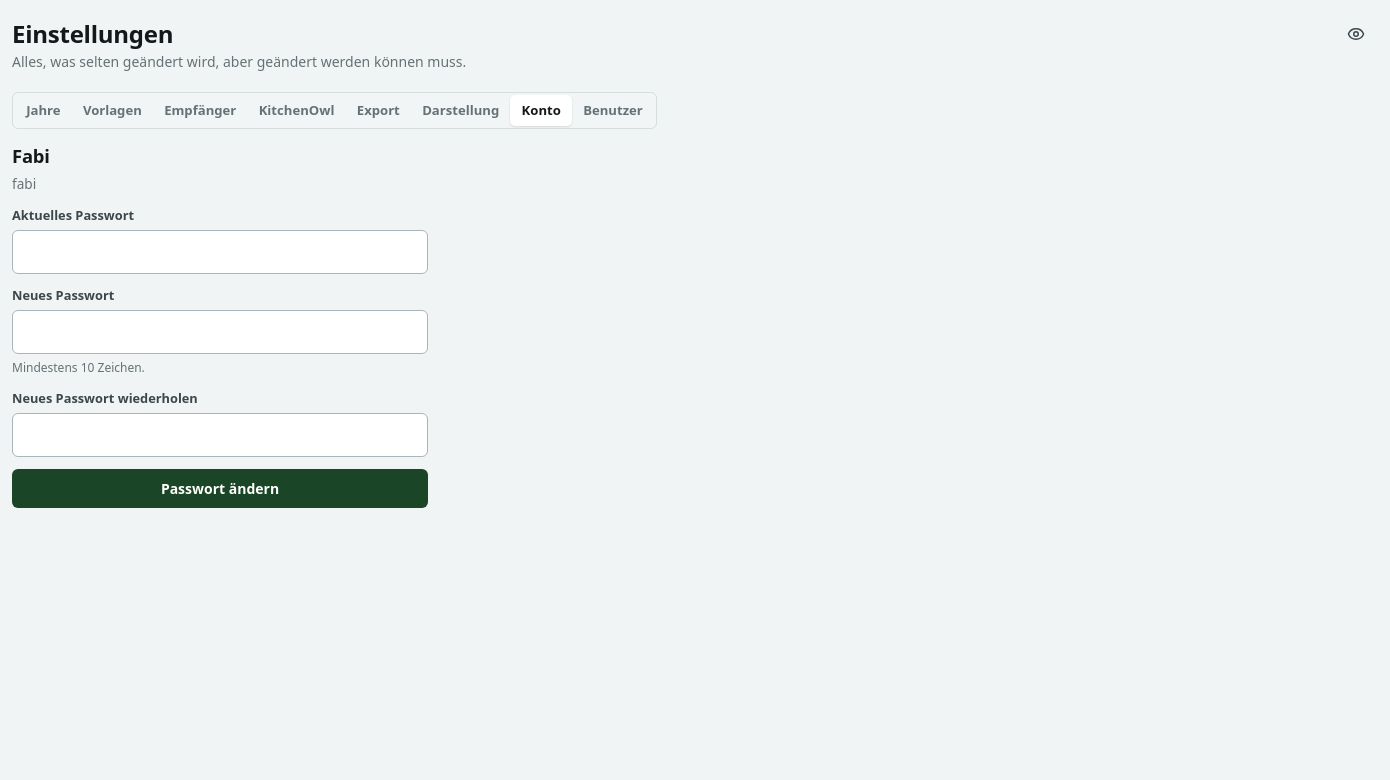
it: settings › refuses a password change where the two entries disagree
Type "altespasswort" into the password field labelled "Aktuelles Passwort". click: (220, 252)
box: [12, 230, 428, 274]
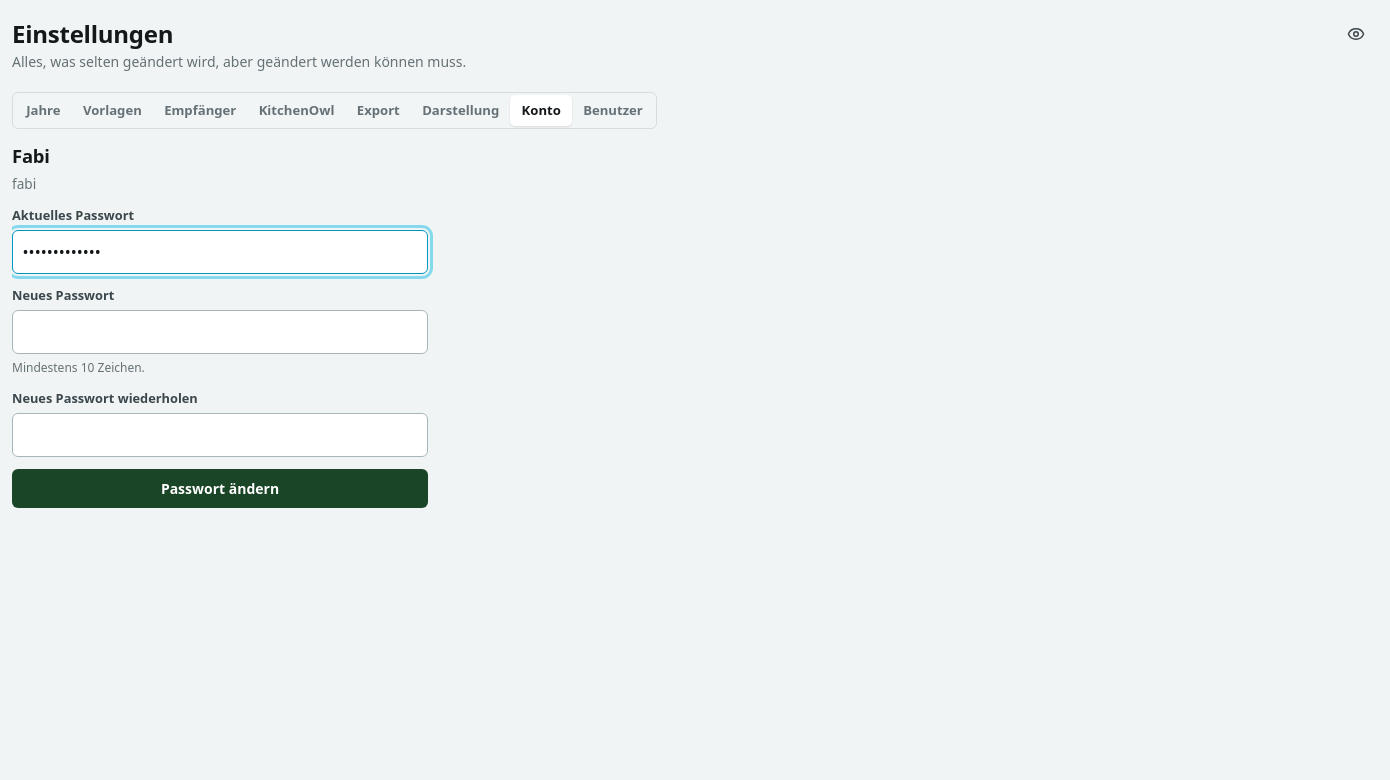
Type "neuespasswort" into the password field labelled "Neues Passwort". click: (220, 332)
box: [12, 310, 428, 354]
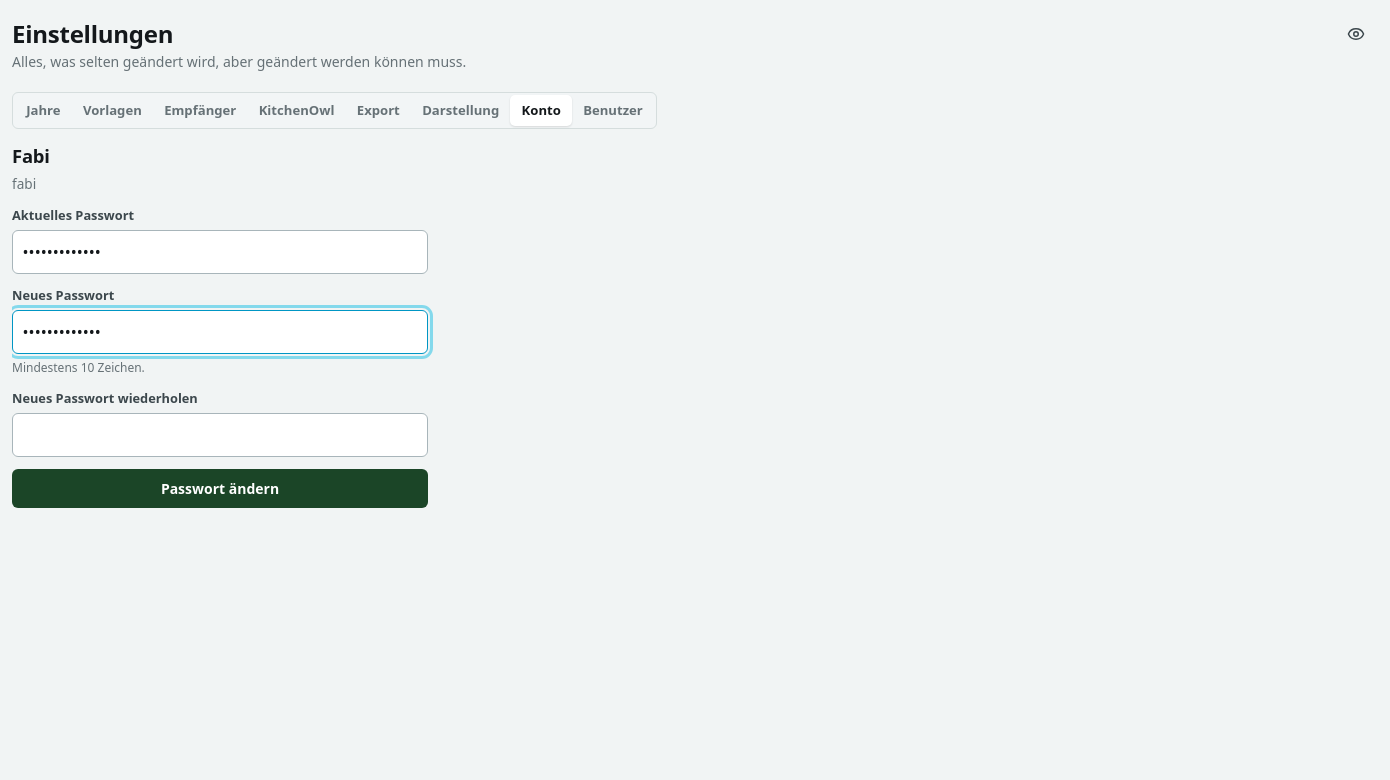
Type "vertippt" into the password field labelled "Neues Passwort wiederholen". click: (220, 435)
box: [12, 413, 428, 457]
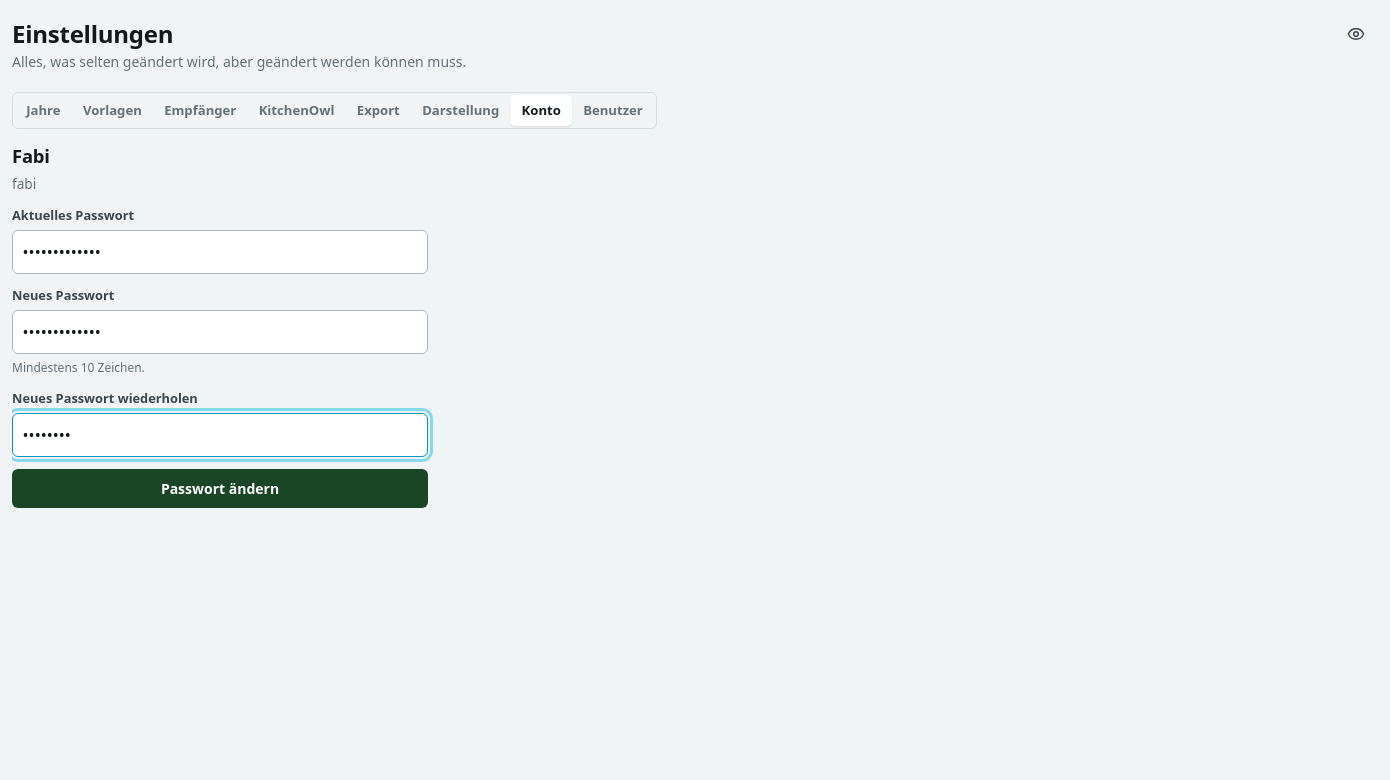
Click the button "Passwort ändern". click: (220, 488)
box: [12, 469, 428, 508]
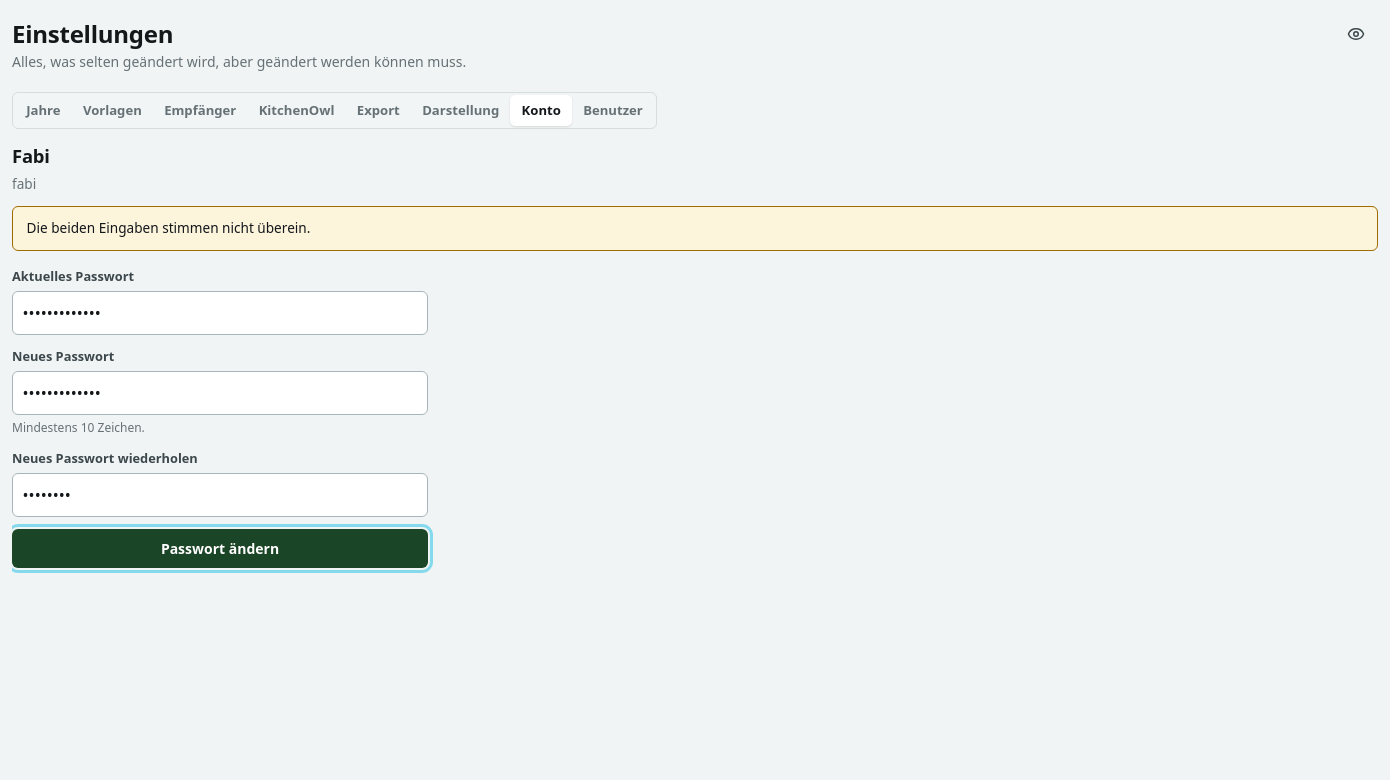
Expected: the text "Die beiden Eingaben stimmen nicht überein." is shown, [27, 218, 310, 238]
